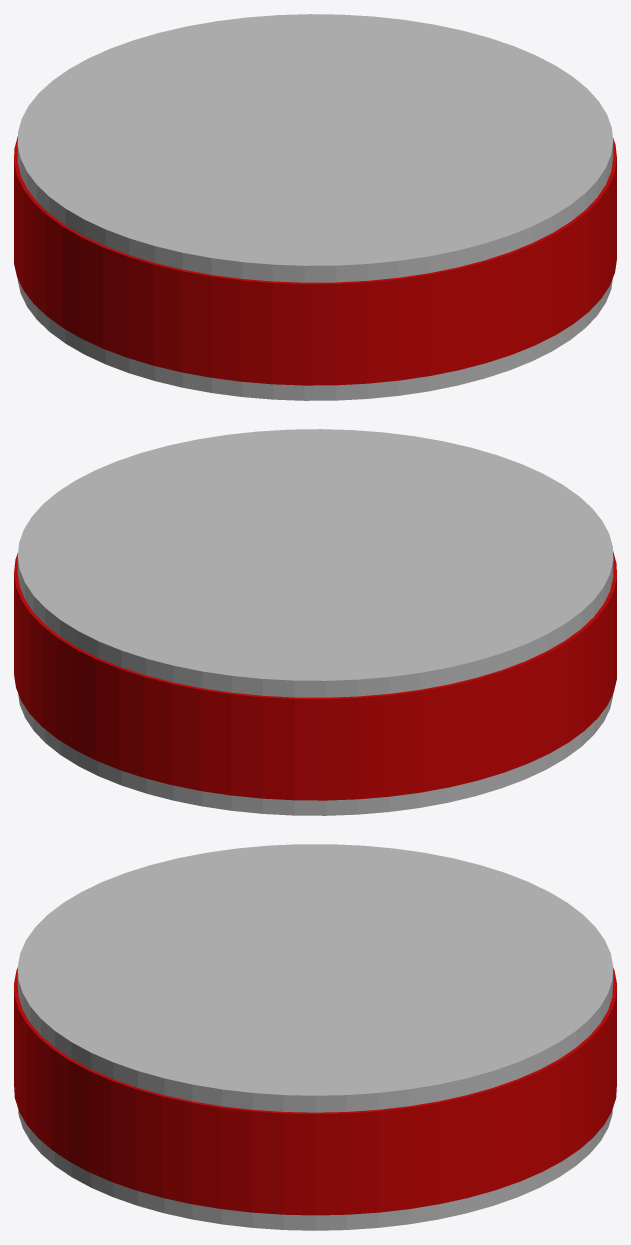
File: disc_80.dae
3 views of the same model, one above another, from view 1: azimuth 30°, elevation 25°; view 2: azimuth 150°, elevation 25°; view 3: azimuth 270°, elevation 25° (orthographic).
Visible parts, largest first — view 1: node0, node1; view 2: node0, node1; view 3: node0, node1.
Boxes of the visible parts, x1,y1,x2,y2 form: node0: (17,14,613,400); node1: (14,136,616,385); node0: (17,429,613,815); node1: (14,551,616,800); node0: (17,844,613,1230); node1: (14,968,616,1215).
Bounding box in the file's own units: 0.0809 × 0.081 × 0.02.
